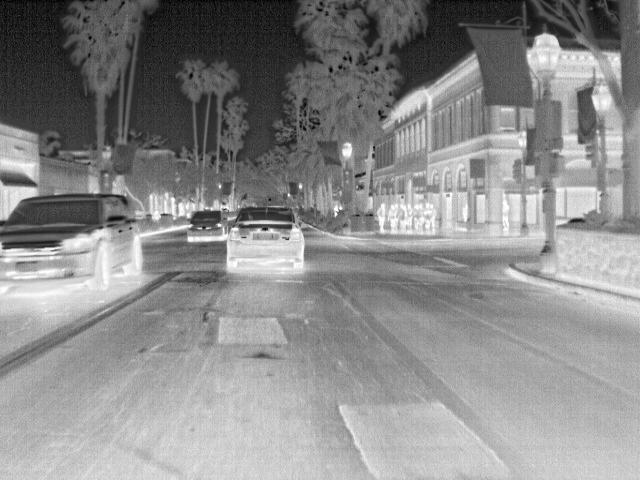car: (1, 192, 144, 293), (225, 204, 305, 268), (185, 210, 230, 244)
person: (373, 202, 387, 234), (397, 200, 409, 232), (387, 204, 399, 234), (422, 202, 434, 232)
